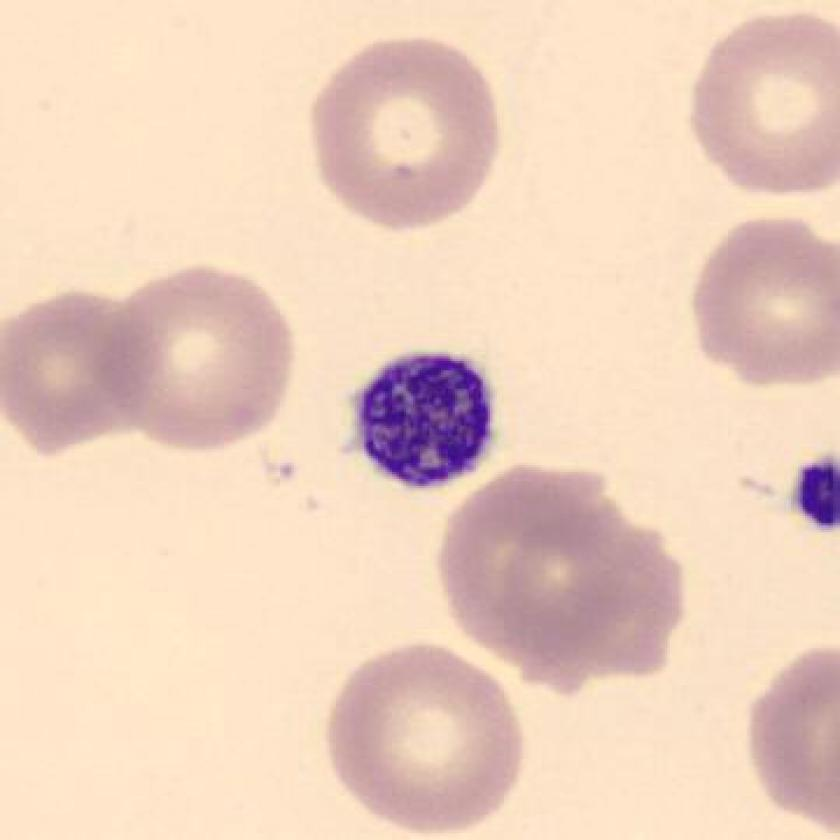platelets: (342, 346, 507, 501)
